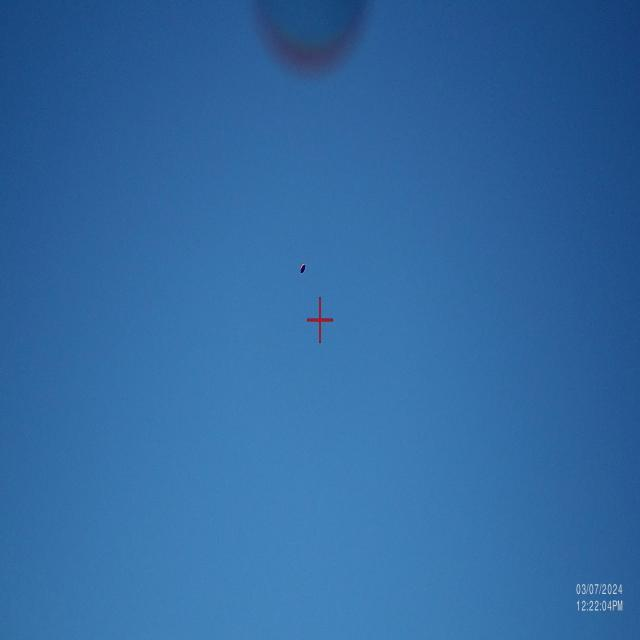entire: (295, 258, 311, 276)
